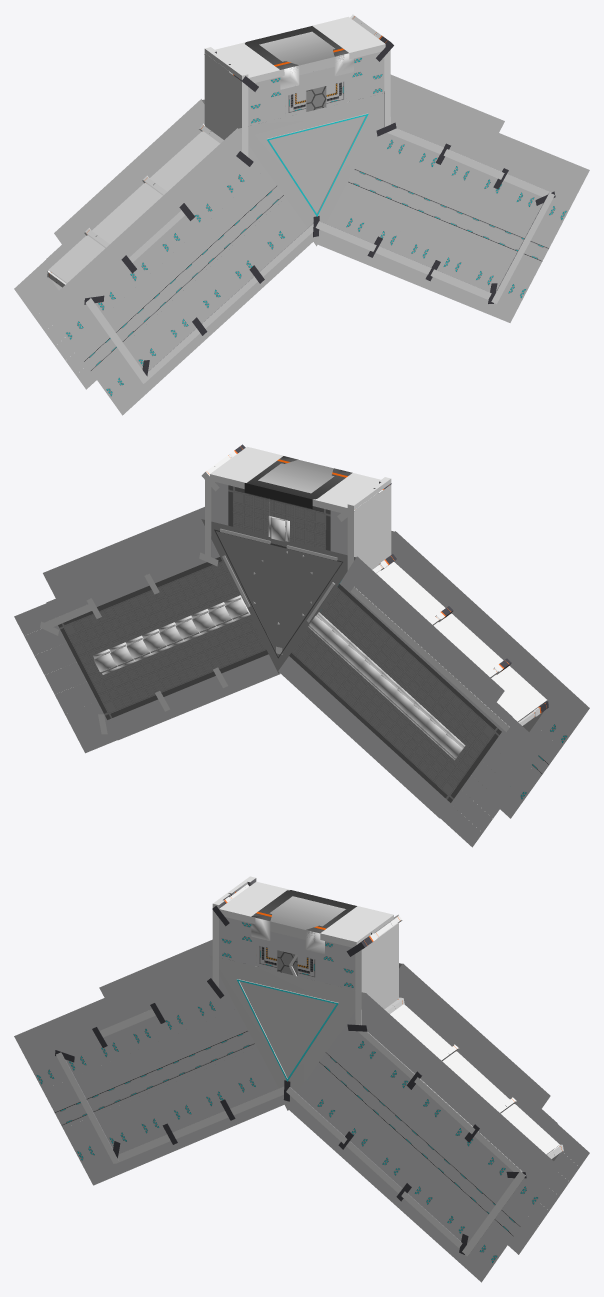
The model's file is ENV_Room1 (Surely eto na talaga,,,).fbx.
3 renders of one model, top to bottom at view 1: azimuth 30°, elevation 25°; view 2: azimuth 150°, elevation 25°; view 3: azimuth 330°, elevation 25°, orthographic.
Parts seen in each view (by area): view 1: Plane.014, Plane.020, Cone.002, Plane.161, Plane.017, Final Door.001, TEXTURED_WT_ExposedPanel.004, Plane.016, b.005, Plane.018, TEXTURED_WT_ExposedPanel.002, b.004 (+7 smaller); view 2: Plane.018, Plane.017, Cylinder.007, Plane.020, Plane.016, Ver3.002, Ver3.003, TEXTURED_WT_ExposedPanel.004, Final Door.001, b.005, b.004, b.006 (+4 smaller); view 3: Plane.020, Plane.014, Cone.002, Plane.018, Plane.161, Final Door.001, TEXTURED_WT_ExposedPanel.001, a.006, TEXTURED_WT_ExposedPanel.002, a.004, Plane.017, a.005 (+6 smaller).
Boxes of the visible parts, x1=… form: Plane.014: x1=316, y1=90, x2=589, y2=322; Plane.020: x1=43, y1=128, x2=315, y2=415; Cone.002: x1=238, y1=90, x2=395, y2=246; Plane.161: x1=248, y1=52, x2=384, y2=125; Plane.017: x1=54, y1=99, x2=204, y2=252; Final Door.001: x1=245, y1=26, x2=353, y2=89; TEXTURED_WT_ExposedPanel.004: x1=204, y1=47, x2=248, y2=156; Plane.016: x1=14, y1=245, x2=96, y2=389; b.005: x1=92, y1=183, x2=184, y2=262; Plane.018: x1=390, y1=74, x2=504, y2=132; TEXTURED_WT_ExposedPanel.002: x1=312, y1=16, x2=385, y2=59; b.004: x1=149, y1=131, x2=219, y2=191; Plane.018: x1=53, y1=518, x2=280, y2=733; Plane.017: x1=278, y1=556, x2=504, y2=803; Cylinder.007: x1=201, y1=519, x2=355, y2=673; Plane.020: x1=391, y1=531, x2=589, y2=818; Plane.016: x1=424, y1=702, x2=544, y2=847; Ver3.002: x1=308, y1=612, x2=465, y2=760; Ver3.003: x1=93, y1=595, x2=250, y2=674; TEXTURED_WT_ExposedPanel.004: x1=347, y1=477, x2=391, y2=570; Final Door.001: x1=244, y1=456, x2=352, y2=508; b.005: x1=408, y1=613, x2=503, y2=695; b.004: x1=350, y1=562, x2=445, y2=643; b.006: x1=466, y1=666, x2=546, y2=731; Plane.020: x1=14, y1=954, x2=286, y2=1185; Plane.014: x1=287, y1=993, x2=561, y2=1282; Cone.002: x1=209, y1=955, x2=366, y2=1110; Plane.018: x1=399, y1=963, x2=550, y2=1120; Plane.161: x1=219, y1=917, x2=355, y2=990; Final Door.001: x1=251, y1=890, x2=356, y2=954; TEXTURED_WT_ExposedPanel.001: x1=355, y1=922, x2=398, y2=1025; a.006: x1=414, y1=1051, x2=509, y2=1133; TEXTURED_WT_ExposedPanel.002: x1=320, y1=906, x2=393, y2=947; a.004: x1=358, y1=1004, x2=451, y2=1078; Plane.017: x1=99, y1=939, x2=212, y2=997; a.005: x1=474, y1=1104, x2=559, y2=1171.
Size of the model in its own units: 12817 by 7013 by 1596.
Materials: 101 (92 with a texture image).
